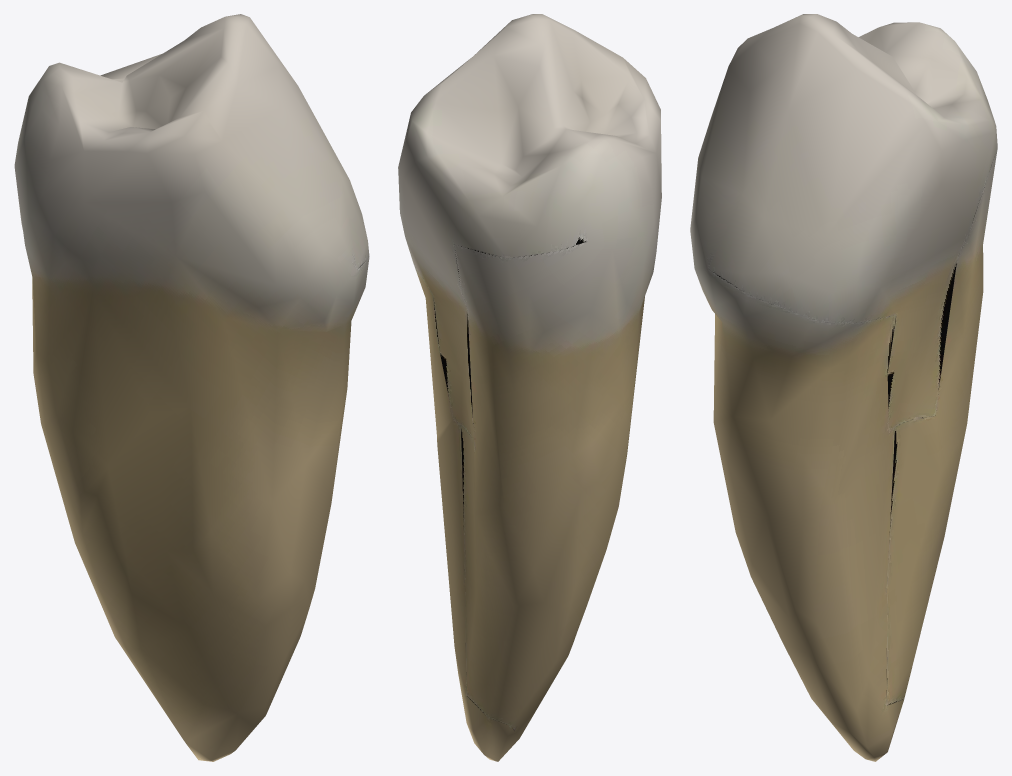
Rendered from mandibular_first_premolar.glb.
The picture shows the model from 3 angles, left to right: view 1: azimuth 30°, elevation 25°; view 2: azimuth 150°, elevation 25°; view 3: azimuth 270°, elevation 25°; orthographic projection. The views are drawn at different scales.
Parts seen in each view (by area): view 1: Object_2; view 2: Object_2; view 3: Object_2.
Part boxes in pixels (x1,y1,x2,y2): Object_2: (14, 14, 369, 761); Object_2: (398, 14, 661, 761); Object_2: (690, 14, 997, 761).
Bounding box in the file's own units: 0.3391 × 0.8779 × 0.3309.
Materials: 1 (1 with a texture image).
